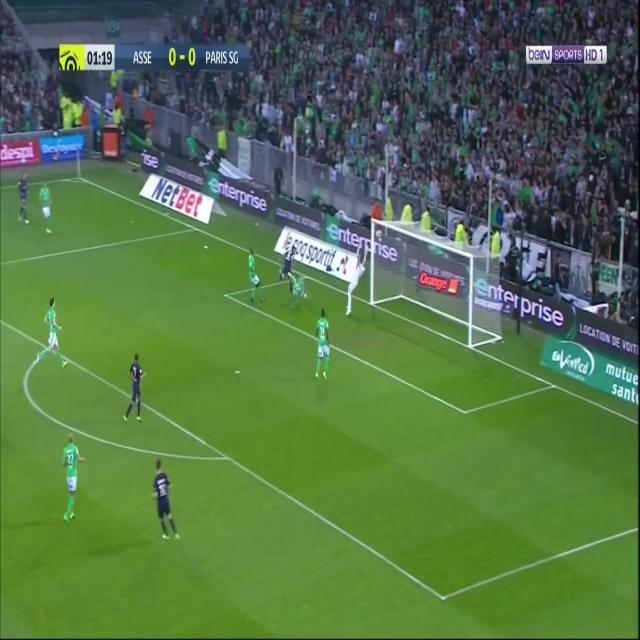Ball: (374, 227, 384, 240)
Goalkeeper: (341, 248, 367, 321)
Player: (150, 458, 183, 546), (34, 295, 71, 373), (62, 429, 87, 524), (121, 352, 148, 426), (313, 306, 332, 383), (247, 246, 268, 309), (37, 179, 54, 238), (15, 170, 30, 226), (278, 241, 298, 281), (286, 268, 307, 304)
